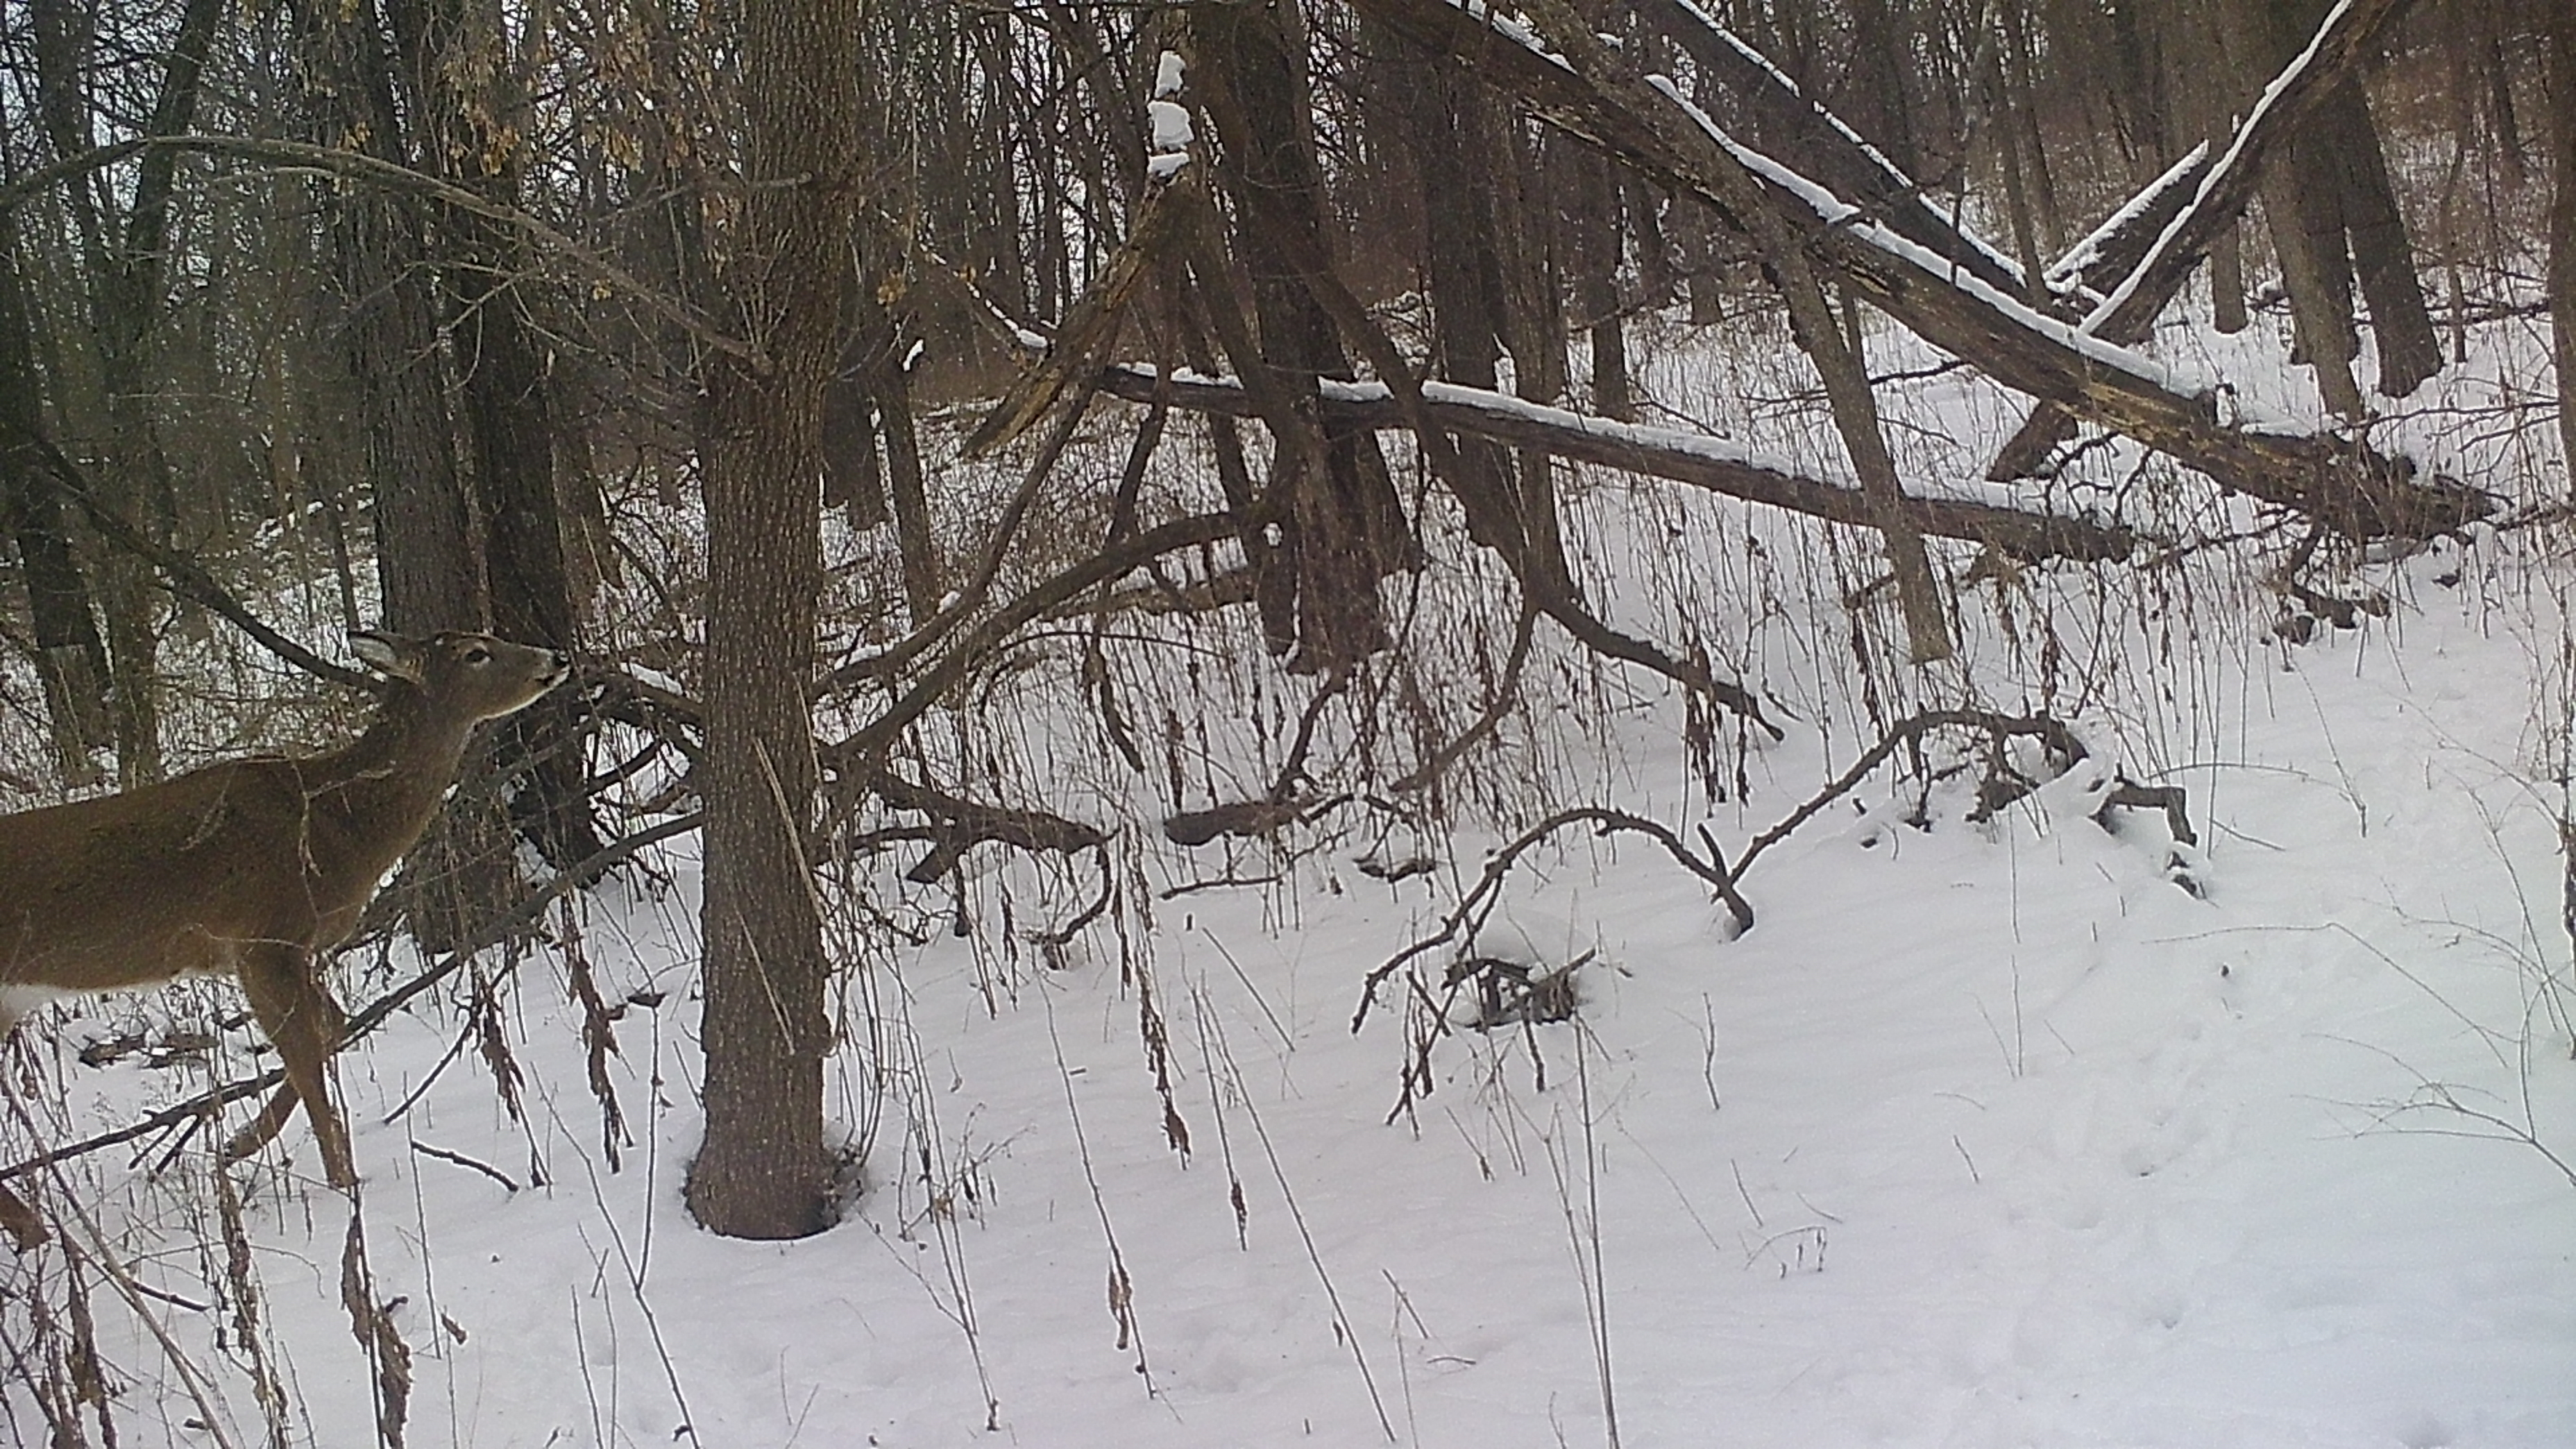DeerDoe: (0, 625, 571, 1253)
